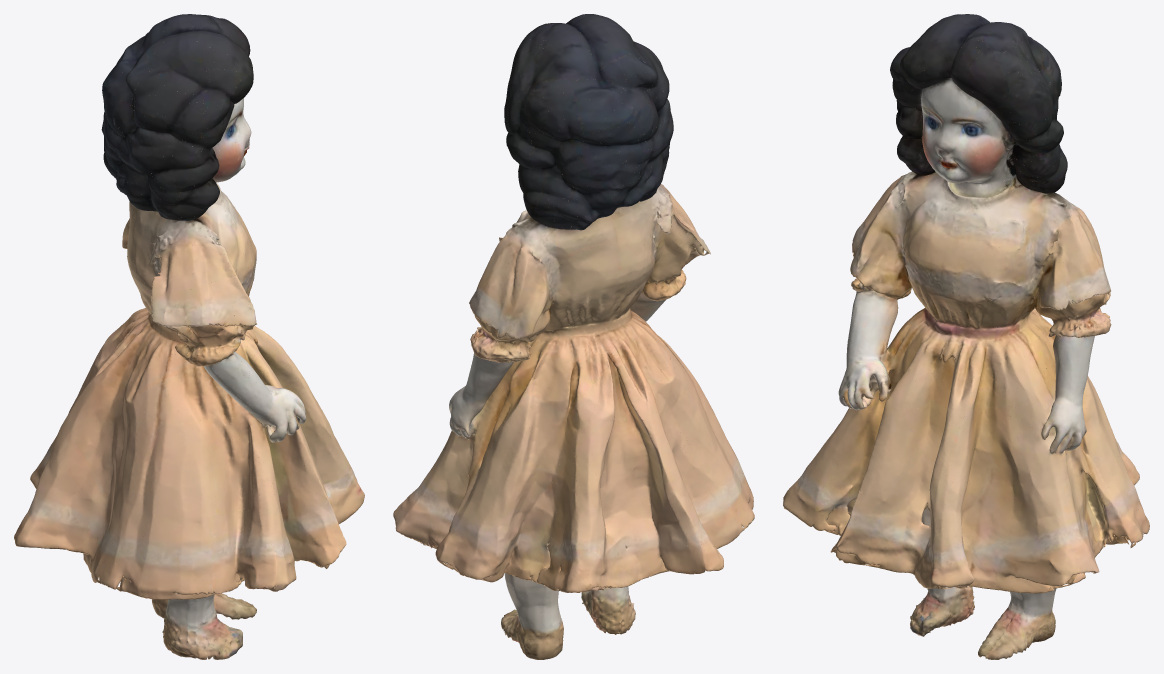
File: prop_china_doll.glb
The picture shows the model from 3 angles, left to right: view 1: azimuth 30°, elevation 25°; view 2: azimuth 150°, elevation 25°; view 3: azimuth 270°, elevation 25°; orthographic projection.
Parts seen in each view (by area): view 1: Object_4, Object_5, Object_6, Object_7, Object_8; view 2: Object_4, Object_6, Object_5, Object_8, Object_7; view 3: Object_5, Object_4, Object_6, Object_7, Object_8.
Boxes of the visible parts, box(x1,y1,x2,y2) form: Object_4: box(33, 14, 350, 659); Object_5: box(14, 14, 346, 657); Object_6: box(14, 19, 364, 614); Object_7: box(47, 41, 346, 659); Object_8: box(16, 18, 359, 659); Object_4: box(394, 28, 739, 652); Object_6: box(415, 18, 754, 659); Object_5: box(393, 14, 753, 658); Object_8: box(395, 16, 747, 659); Object_7: box(420, 19, 745, 653); Object_5: box(812, 19, 1138, 653); Object_4: box(803, 22, 1149, 659); Object_6: box(783, 14, 1139, 651); Object_7: box(783, 19, 1147, 657); Object_8: box(791, 14, 1149, 658).
Size of the model in its own units: 1.07 by 2 by 1.09.
Materials: 1 (1 with a texture image).
